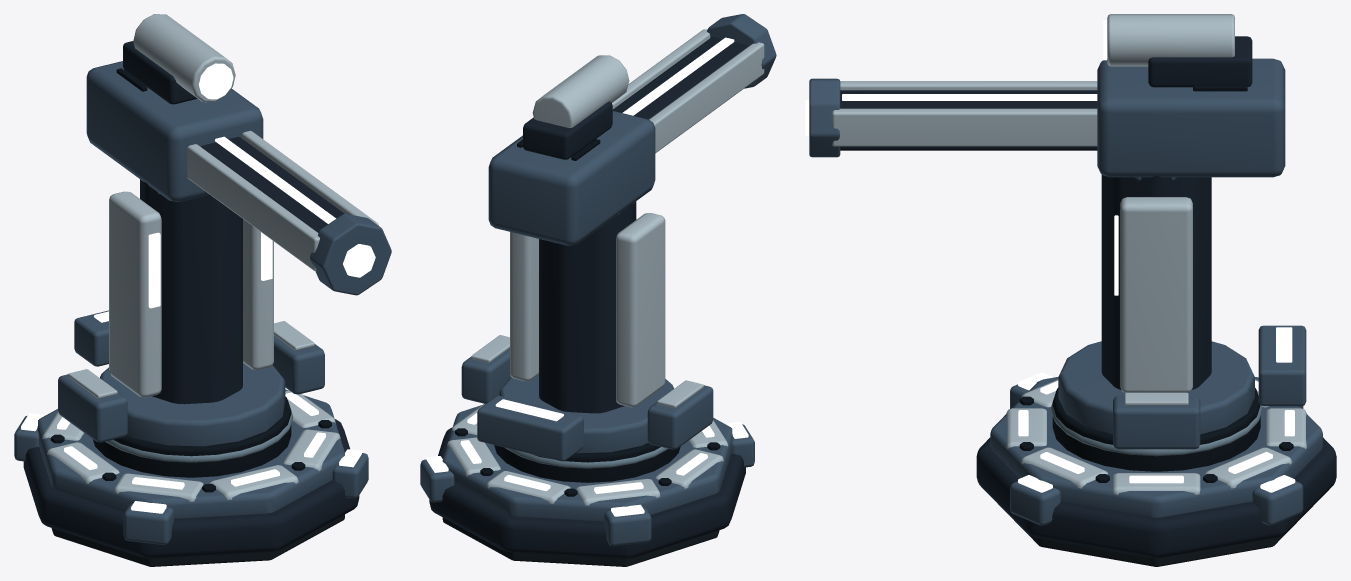
The model's file is watchtower.fbx.
3 views of the same model, side by side, from view 1: azimuth 30°, elevation 25°; view 2: azimuth 150°, elevation 25°; view 3: azimuth 270°, elevation 25° (orthographic). The views are drawn at different scales.
Parts seen in each view (by area): view 1: Yaw_Geometry, Recoil_Geometry, Base_Geometry, Tier3_Cooling_Geometry, Apex_sector_3_Geometry, Tier2_Capacitor_Geometry, Apex_sector_0_Geometry, Apex_sector_2_Geometry; view 2: Recoil_Geometry, Yaw_Geometry, Base_Geometry, Tier3_Cooling_Geometry, Tier2_Capacitor_Geometry, Apex_sector_2_Geometry, Apex_sector_1_Geometry, Apex_sector_3_Geometry; view 3: Recoil_Geometry, Base_Geometry, Yaw_Geometry, Tier3_Cooling_Geometry, Tier2_Capacitor_Geometry, Apex_sector_1_Geometry, Apex_sector_0_Geometry.
Boxes of the visible parts, x1,y1,x2,y2 form: Yaw_Geometry: (100, 179, 285, 446); Recoil_Geometry: (86, 14, 391, 295); Base_Geometry: (23, 389, 359, 566); Tier3_Cooling_Geometry: (58, 321, 324, 442); Apex_sector_3_Geometry: (123, 501, 173, 544); Tier2_Capacitor_Geometry: (74, 310, 108, 366); Apex_sector_0_Geometry: (332, 449, 368, 498); Apex_sector_2_Geometry: (14, 413, 43, 461); Recoil_Geometry: (488, 14, 776, 245); Yaw_Geometry: (499, 201, 673, 453); Base_Geometry: (429, 403, 745, 566); Tier3_Cooling_Geometry: (461, 335, 713, 449); Tier2_Capacitor_Geometry: (477, 396, 583, 461); Apex_sector_2_Geometry: (604, 504, 651, 546); Apex_sector_1_Geometry: (420, 456, 454, 502); Apex_sector_3_Geometry: (726, 422, 754, 467); Recoil_Geometry: (805, 14, 1285, 177); Base_Geometry: (976, 377, 1336, 566); Yaw_Geometry: (1058, 175, 1254, 434); Tier3_Cooling_Geometry: (1113, 392, 1200, 449); Tier2_Capacitor_Geometry: (1258, 325, 1306, 406); Apex_sector_1_Geometry: (1252, 475, 1303, 525); Apex_sector_0_Geometry: (1010, 475, 1060, 525).
Size of the model in its own units: 1.98 by 2.92 by 2.91.
